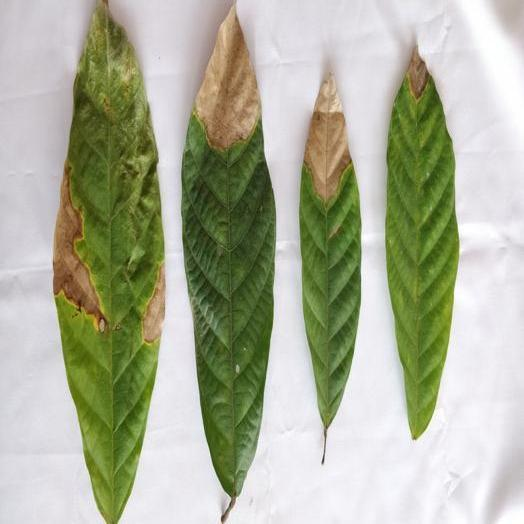Potassium: (53, 0, 164, 523), (182, 6, 275, 523), (387, 47, 458, 438), (300, 73, 360, 463)
